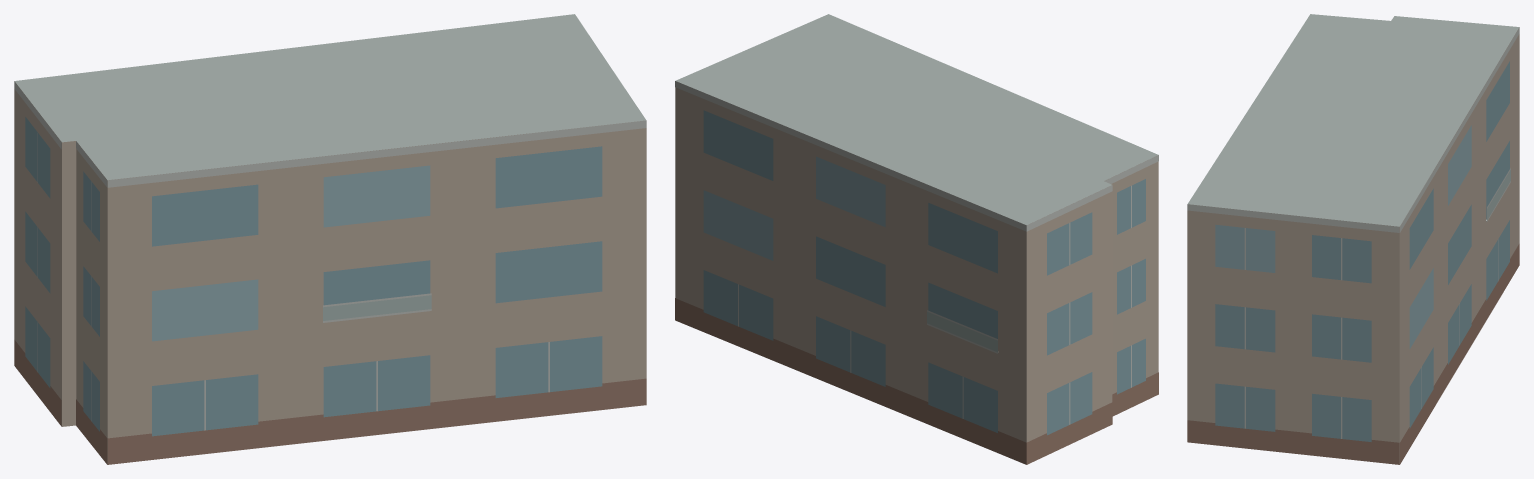
Rendered from survey-upis-32913064.glb.
3 renders of one model, left to right at view 1: azimuth 30°, elevation 25°; view 2: azimuth 150°, elevation 25°; view 3: azimuth 270°, elevation 25°, orthographic. The views are drawn at different scales.
Visible parts, largest first — view 1: survey-upis-32913064.tmp; view 2: survey-upis-32913064.tmp; view 3: survey-upis-32913064.tmp.
Part boxes in pixels (left/top/right/bottom): survey-upis-32913064.tmp: left=14, top=14, right=646, bottom=464; survey-upis-32913064.tmp: left=675, top=14, right=1158, bottom=464; survey-upis-32913064.tmp: left=1187, top=14, right=1519, bottom=464.
Bounding box in the file's own units: 17.54 × 9.15 × 11.57.
